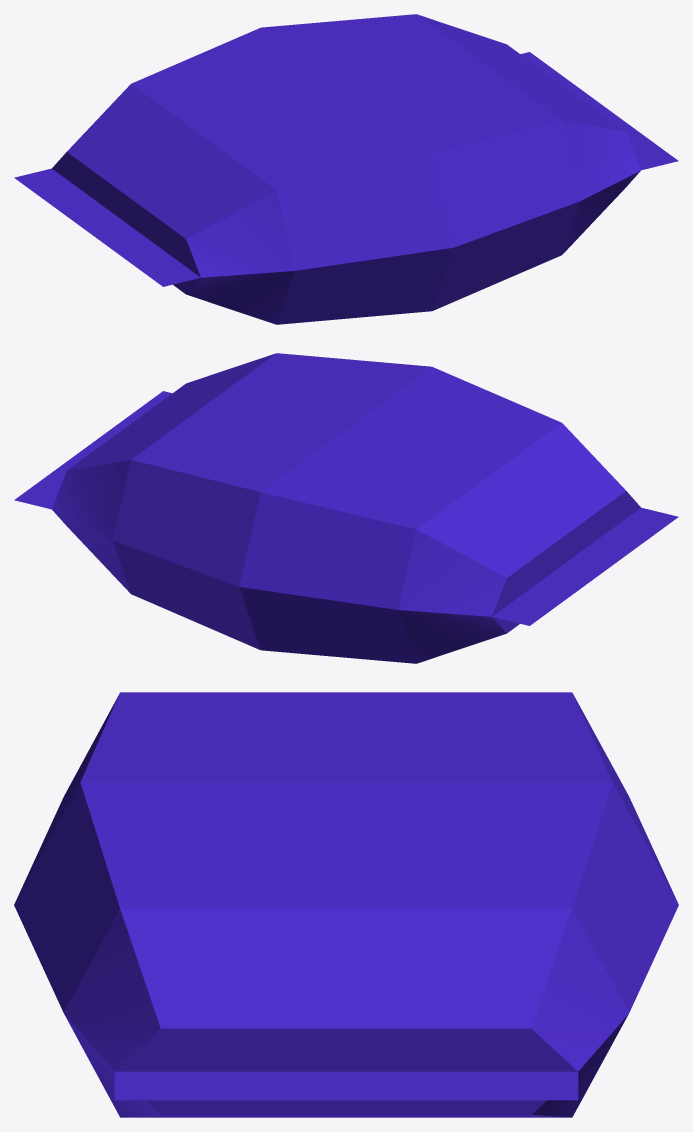
Rendered from sand.gltf.
3 renders of one model, top to bottom at view 1: azimuth 30°, elevation 25°; view 2: azimuth 150°, elevation 25°; view 3: azimuth 270°, elevation 25°, orthographic. The views are drawn at different scales.
Visible parts, largest first — view 1: bagFlat; view 2: bagFlat; view 3: bagFlat.
Boxes of the visible parts, bbox=[...] form: bagFlat: bbox=[14, 14, 678, 324]; bagFlat: bbox=[14, 353, 678, 663]; bagFlat: bbox=[14, 692, 678, 1117].
Bounding box in the file's own units: 0.65 × 0.1905 × 0.4674.
